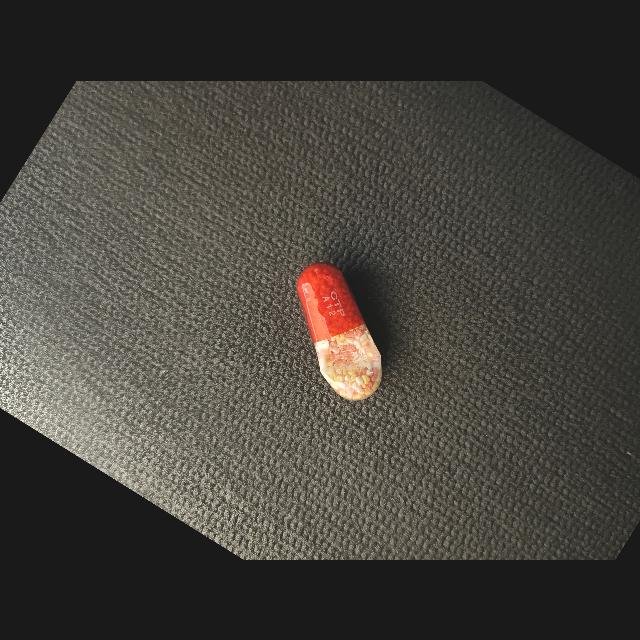Defective Capsule: (297, 262, 382, 400)
